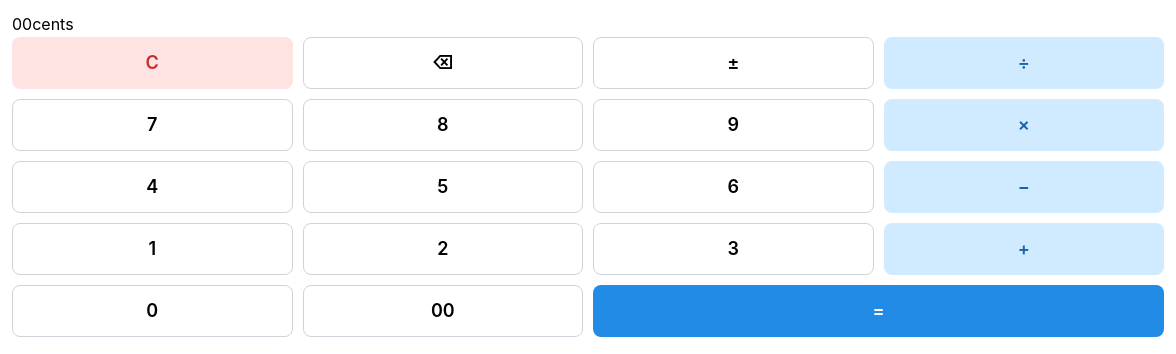
Test: multiplication scales a cents amount by a whole number
Click the button "2": [443, 249] box [302,223,583,275]
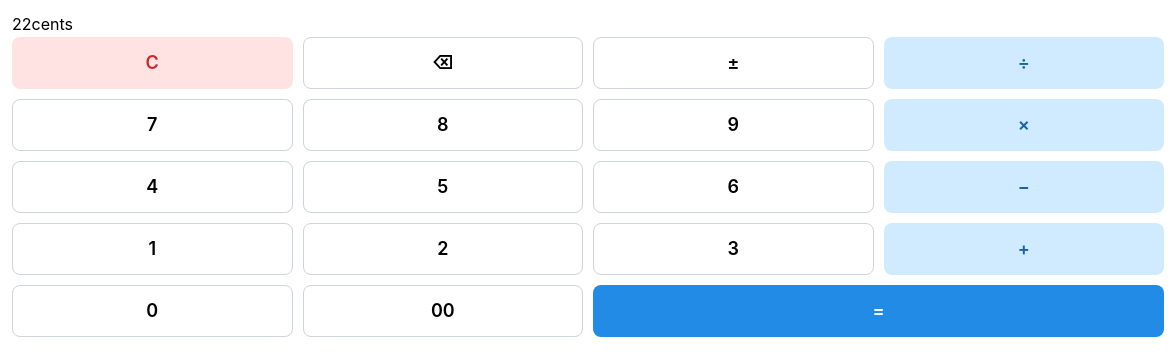
Click the button "0": [152, 311] box [12,285,292,337]
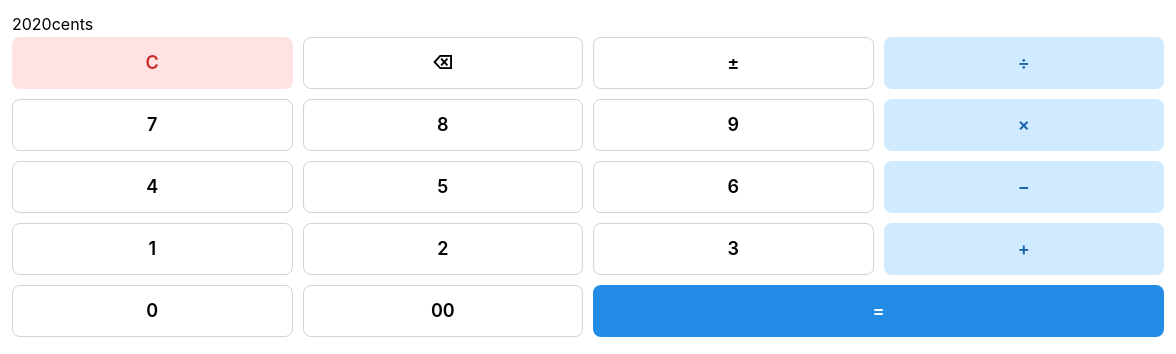
Click the button "0": [152, 311] box [12,285,292,337]
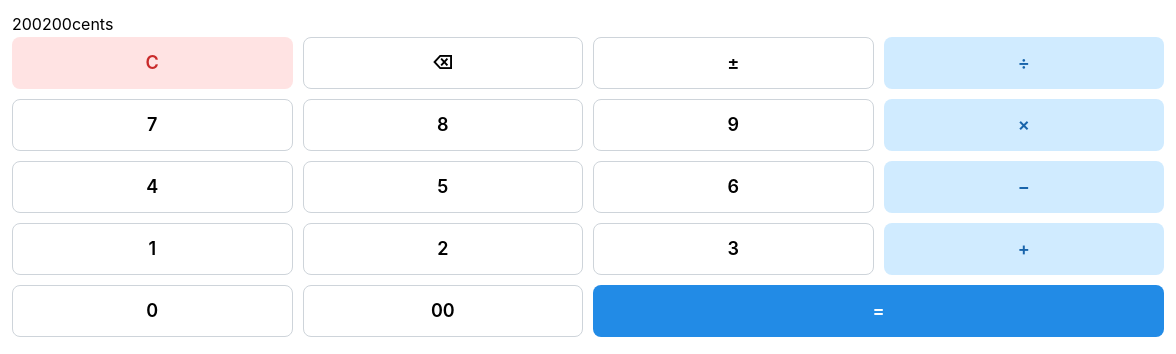
Click the button "×": [1024, 125] box [884,99,1164,151]
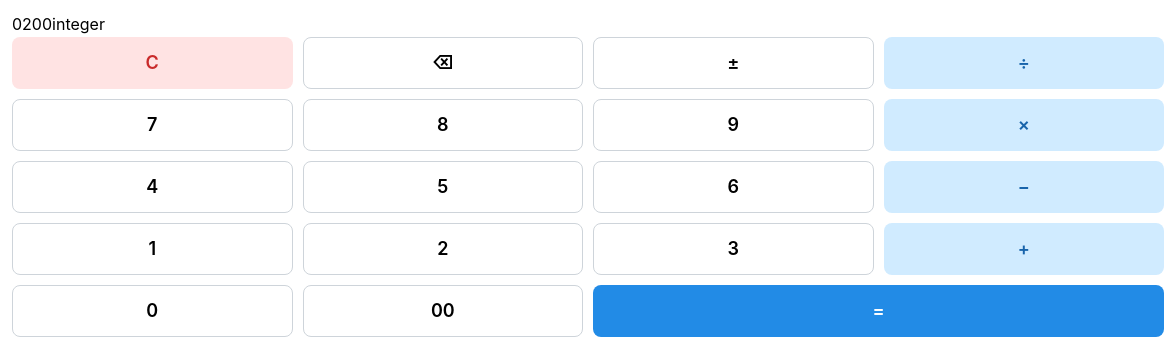
Expected: the text with test id "mode" reads "integer", [52,14,105,34]
Click the button "3": [733, 249] box [593,223,874,275]
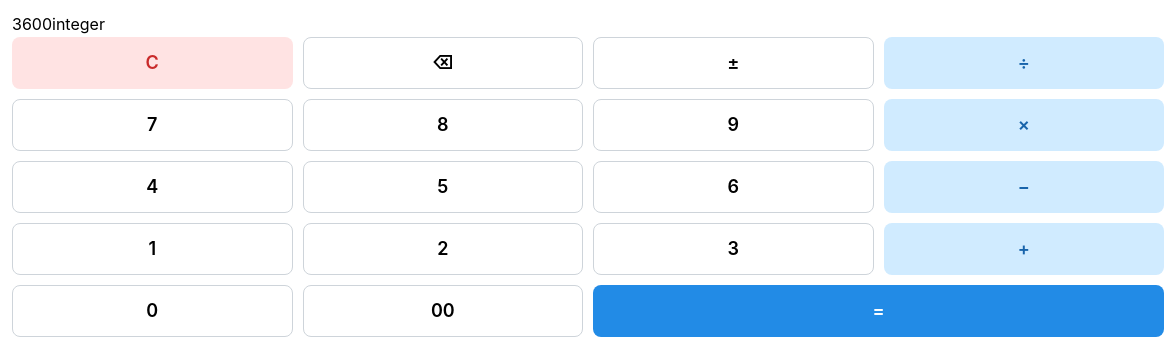
Click the button "=": [878, 311] box [593,285,1164,337]
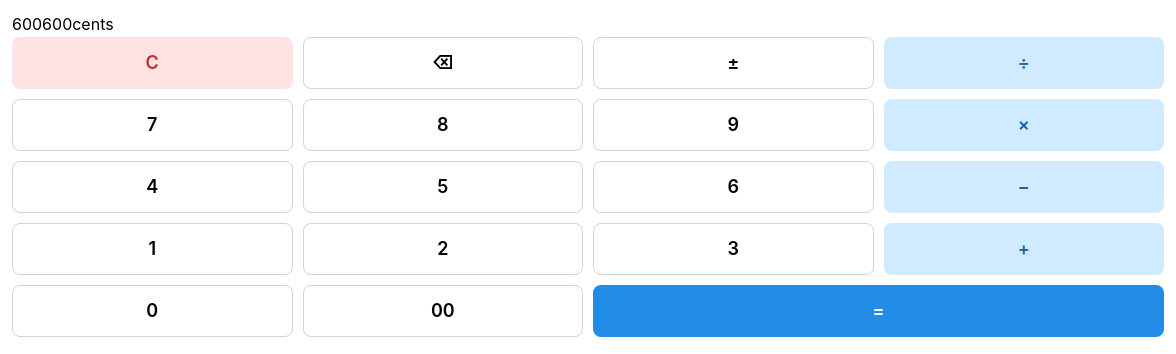
Expected: the text with test id "mode" reads "cents", [72,14,114,34]
